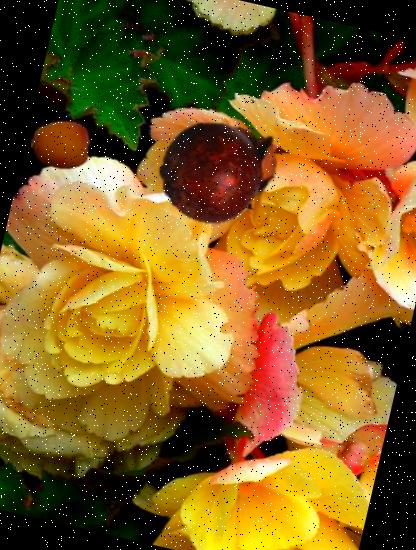Apricot: (25, 109, 96, 181)
Mangostan: (145, 101, 290, 246)
